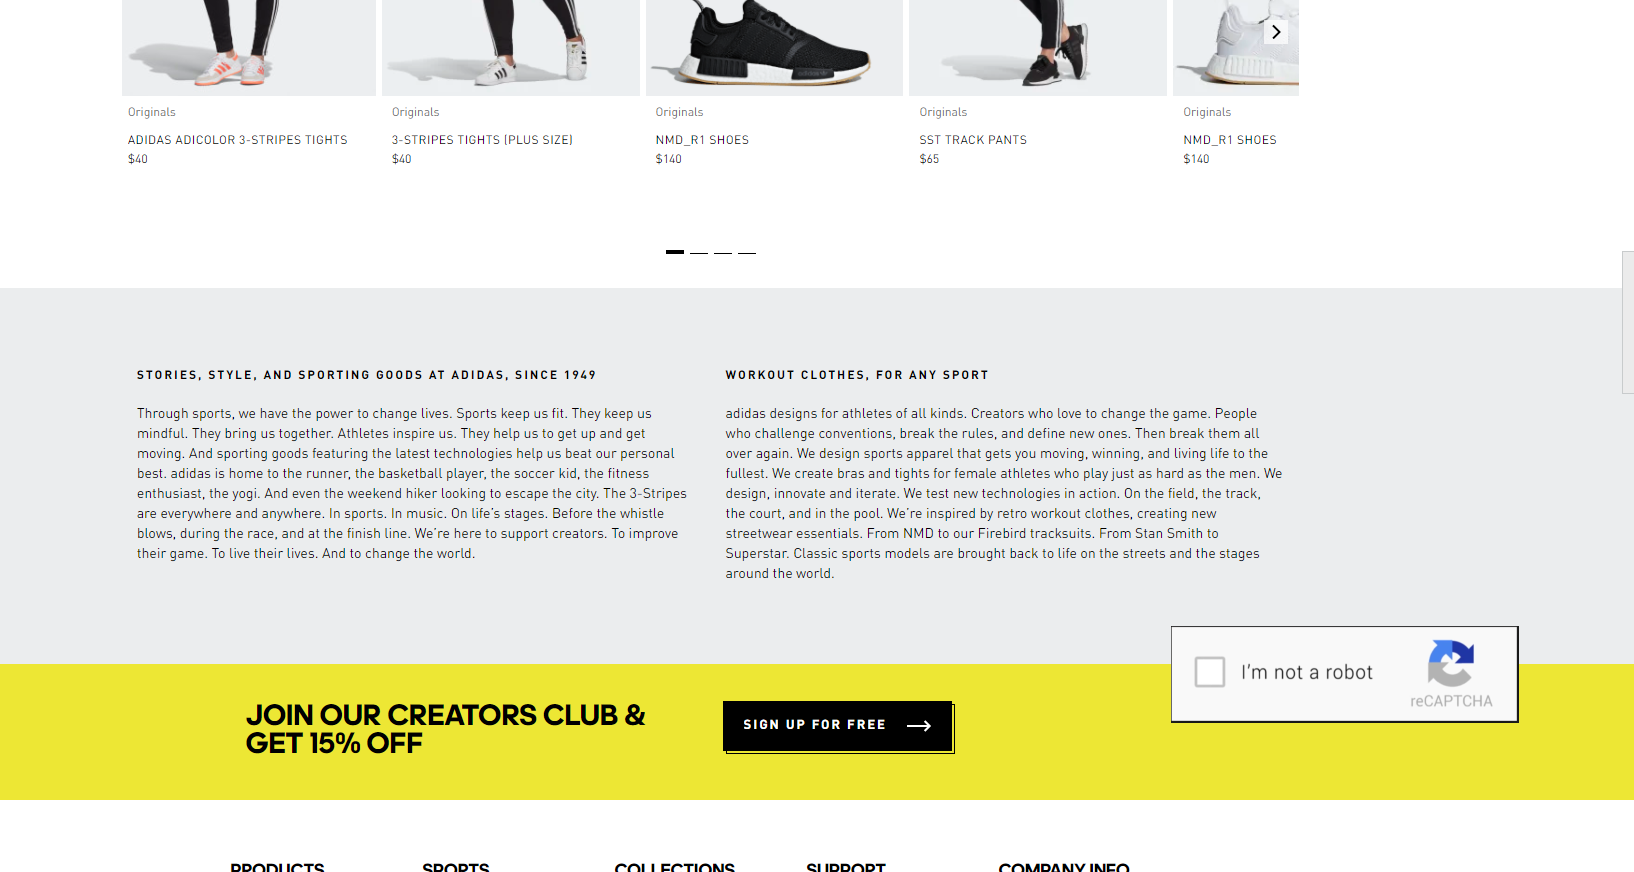captcha: (1162, 619, 1533, 733)
